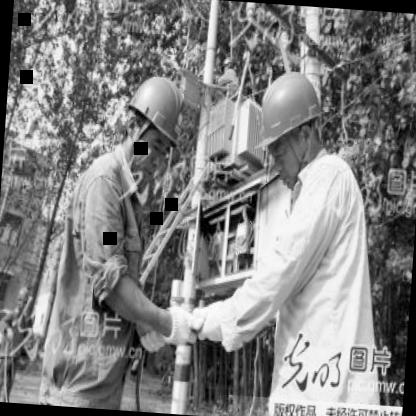helmet: (249, 59, 332, 186), (116, 65, 192, 180), (12, 288, 34, 318)
